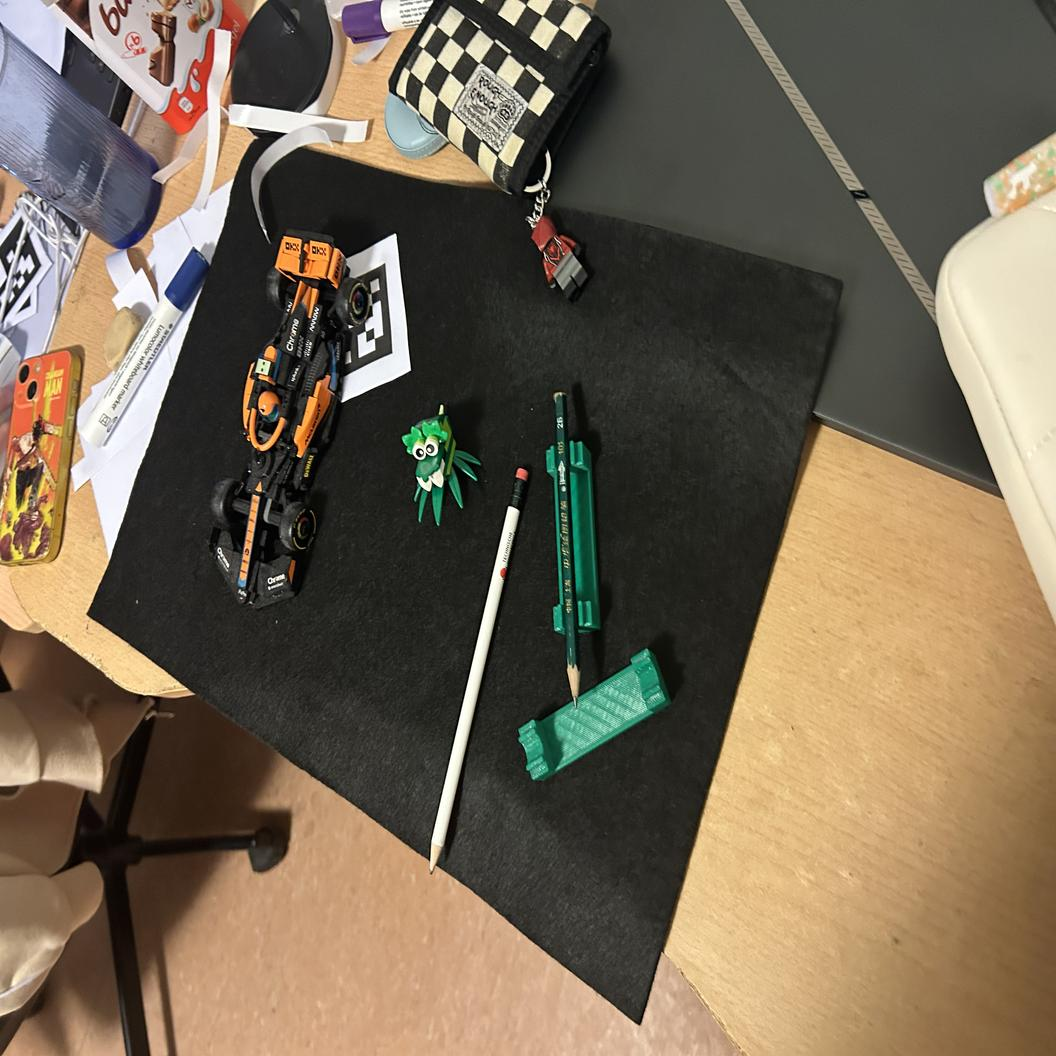X: (546, 390, 601, 709)
holder: (518, 648, 673, 782), (545, 441, 600, 637)
pencil: (429, 466, 528, 876), (552, 390, 581, 709)
